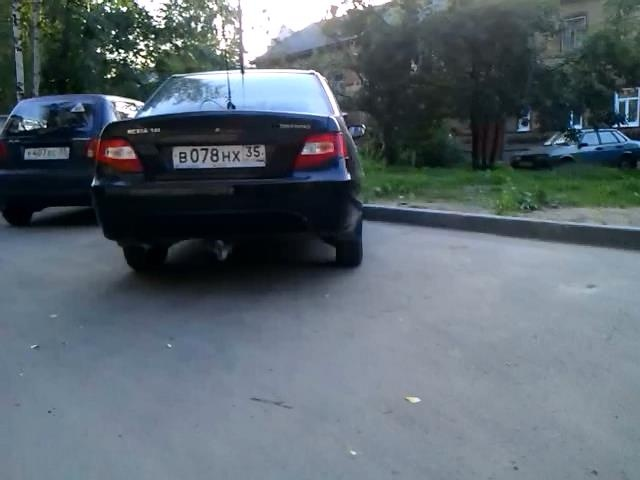car license plate: (171, 142, 269, 169), (24, 146, 70, 160)
